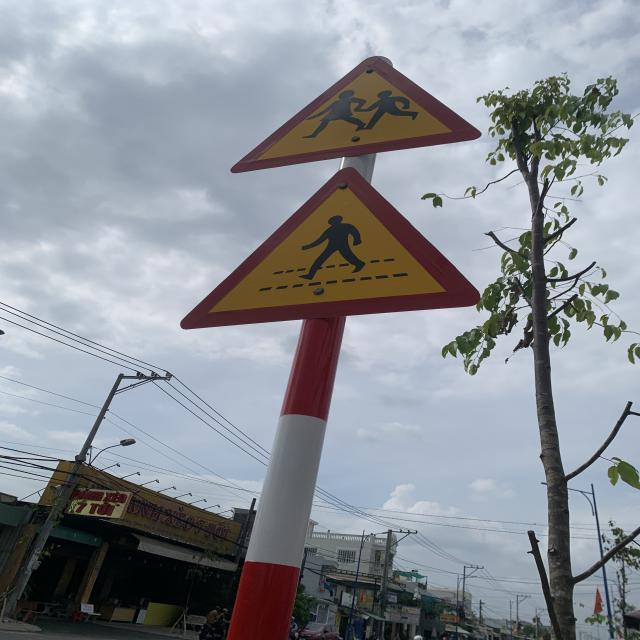Duong_Nguoi_Di_Bo_Sang_Ngang: (178, 167, 481, 329)
Vong_Xuyen: (228, 55, 483, 172)
